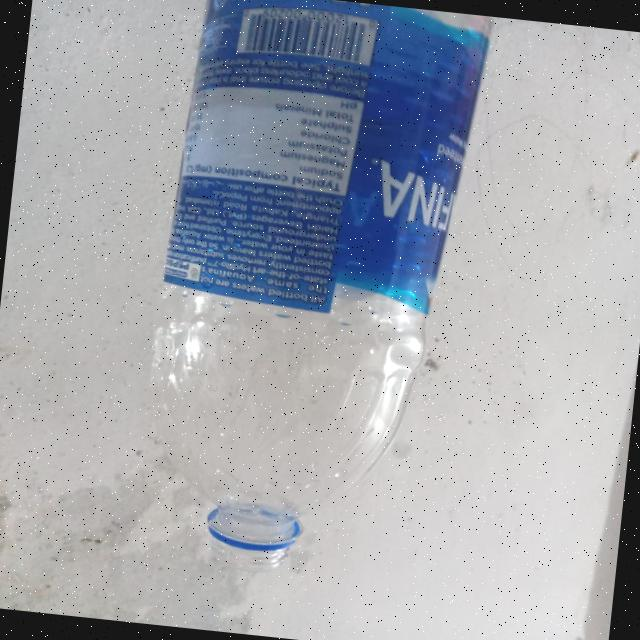bottle: (129, 0, 504, 602)
label: (162, 0, 512, 338)
